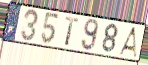3: (20, 9, 39, 44)
5: (40, 10, 61, 46)
8: (101, 23, 119, 54)
9: (80, 18, 99, 53)
A: (117, 26, 137, 59)
T: (64, 16, 80, 48)
